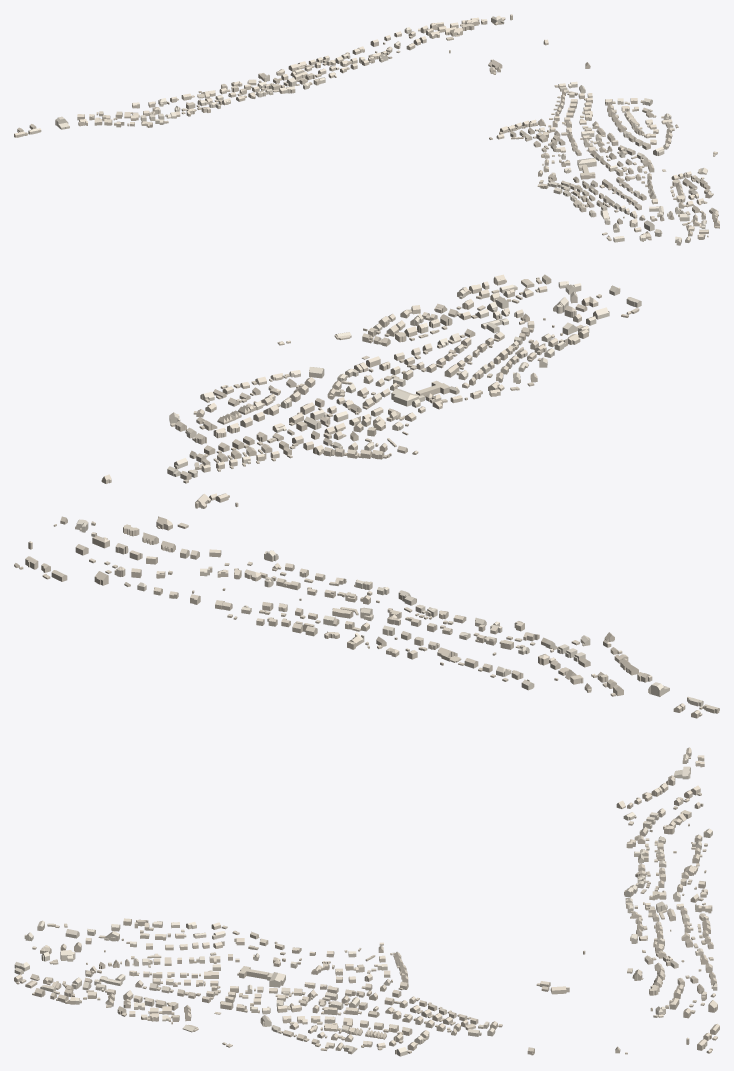
The picture shows the model from 3 angles, top to bottom: view 1: azimuth 30°, elevation 25°; view 2: azimuth 150°, elevation 25°; view 3: azimuth 270°, elevation 25°; orthographic projection. The views are drawn at different scales.
Size of the model in its own units: 1242 by 77.49 by 1232.
